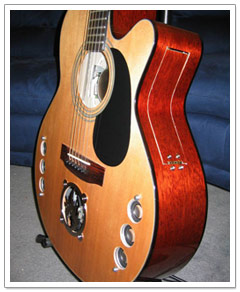guitar: (31, 10, 209, 281)
